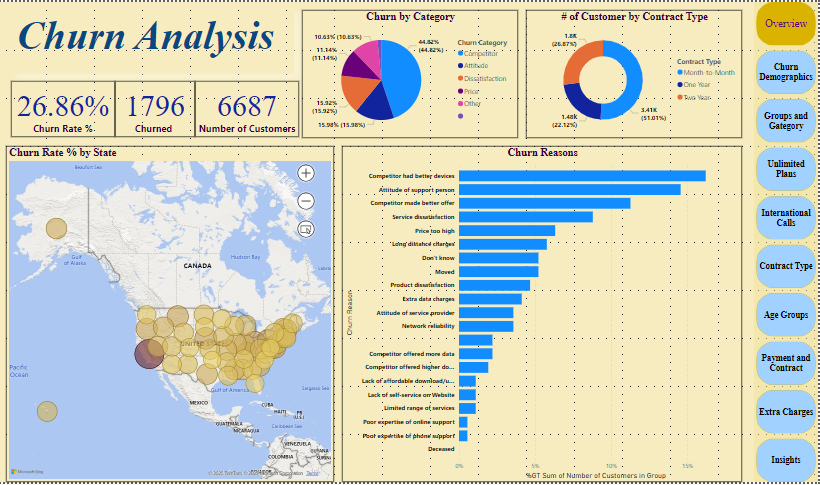

The page's visual inventory and layout, read from the dashboard file:
{"tool":"powerbi","page":{"name":"Overview","canvas":[1640,960],"ordinal":0},"visuals":[{"type":"card","fields":{"Values":["__Measures.Number of Customers"]},"box":[394.4,158.9,208,112],"z":0},{"type":"card","fields":{"Values":["__Measures.Number  of churned Customers"]},"box":[234.4,158.9,160,112],"z":1000},{"type":"card","fields":{"Values":["__Measures.Churn Rate %"]},"box":[26.4,158.9,208,112],"z":2000},{"type":"clusteredBarChart","title":"Churn Reasons","fields":{"Category":["Databel - Data.Churn Reason"],"Y":["Sum(Databel - Data.Number of Customers in Group)"]},"box":[688,288,800,672],"z":3000},{"type":"map","fields":{"Category":["Databel - Data.State"],"Size":["__Measures.Churn Rate %"]},"box":[16,288,656,672],"z":4000},{"type":"pieChart","title":"Churn by Category","fields":{"Category":["Databel - Data.Churn Category"],"Y":["__Measures.Number  of churned Customers"]},"box":[608,16,432,256],"z":5000},{"type":"donutChart","title":"# of Customer by Contract Type","fields":{"Series":["Databel - Data.Contract Type"],"Y":["CountNonNull(Databel - Data.Customer ID)"]},"box":[1056,16,432,256],"z":6000},{"type":"pageNavigator","box":[1512,0,128,960],"z":7000},{"type":"textbox","box":[32,16,560,128],"z":8000}]}

Visuals, with their boxes in screenshot pixels (x1, y1, x2, y2), scaled from the page's 1640x960 canvas onto the 820x485 screenshot:
card - __Measures.Number of Customers: {"left": 197, "top": 80, "right": 301, "bottom": 137}
card - __Measures.Number  of churned Customers: {"left": 117, "top": 80, "right": 197, "bottom": 137}
card - __Measures.Churn Rate %: {"left": 13, "top": 80, "right": 117, "bottom": 137}
"Churn Reasons" clusteredBarChart: {"left": 344, "top": 146, "right": 744, "bottom": 484}
map - Databel - Data.State x __Measures.Churn Rate %: {"left": 8, "top": 146, "right": 336, "bottom": 484}
"Churn by Category" pieChart: {"left": 304, "top": 8, "right": 520, "bottom": 137}
"# of Customer by Contract Type" donutChart: {"left": 528, "top": 8, "right": 744, "bottom": 137}
pageNavigator: {"left": 756, "top": 0, "right": 819, "bottom": 484}
textbox: {"left": 16, "top": 8, "right": 296, "bottom": 73}
